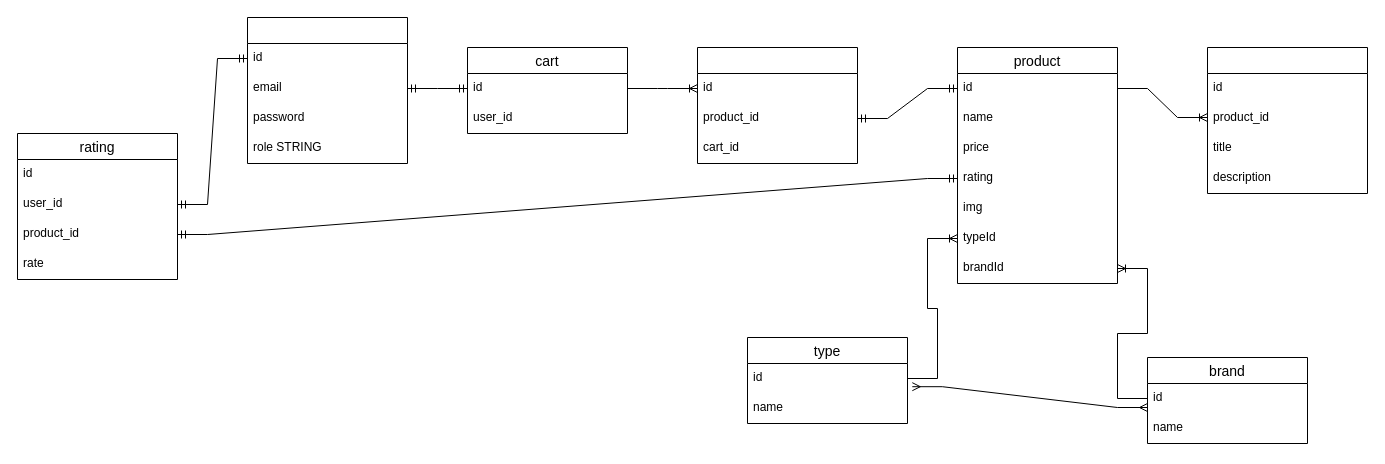
The diagram is 1385 pixels wide and 464 high, and some of its shapes have lost their labels. The box of each missing label's shape, as (x1, y1, x2, y2) in pixels:
cart_product: (696, 46, 858, 164)
product_info: (1206, 46, 1368, 194)
user: (246, 16, 408, 164)
